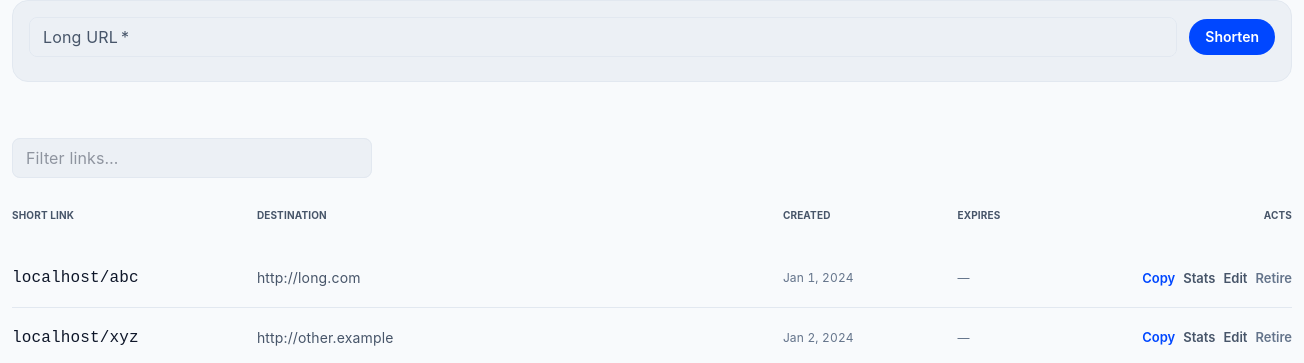
Scenario: DashboardPage › narrowing › narrows on a slug fragment too
Check: the element with test id "link-row-abc" is shown, box [12, 265, 1292, 291]
Type "xyz" into the field with test id "narrow-links". click: (192, 158)
box: [12, 138, 372, 178]
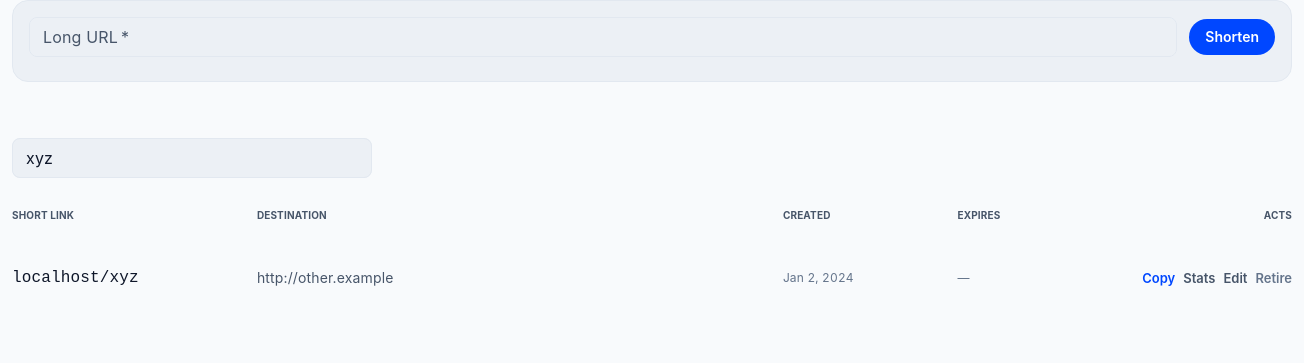
Check: the element with test id "link-row-xyz" is shown, box [12, 265, 1292, 291]
Check: the element with test id "link-row-abc" is gone
